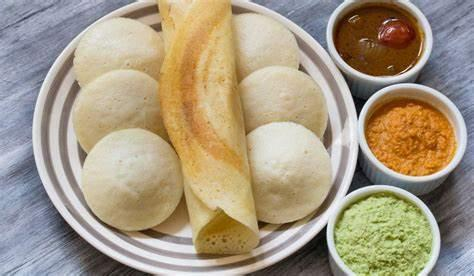Dosa: (158, 1, 260, 254)
GreenChutney: (335, 194, 432, 276)
Idli: (81, 129, 183, 231), (245, 123, 333, 224), (72, 69, 168, 154), (239, 66, 329, 140), (74, 17, 162, 89), (230, 13, 299, 85)
